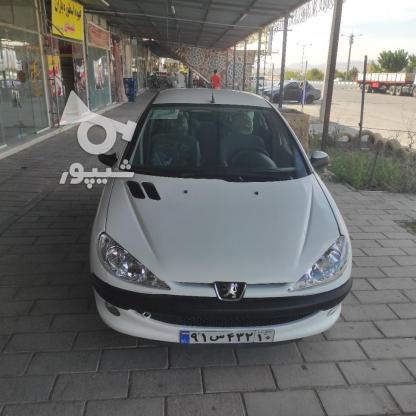car: (179, 329, 275, 344)
